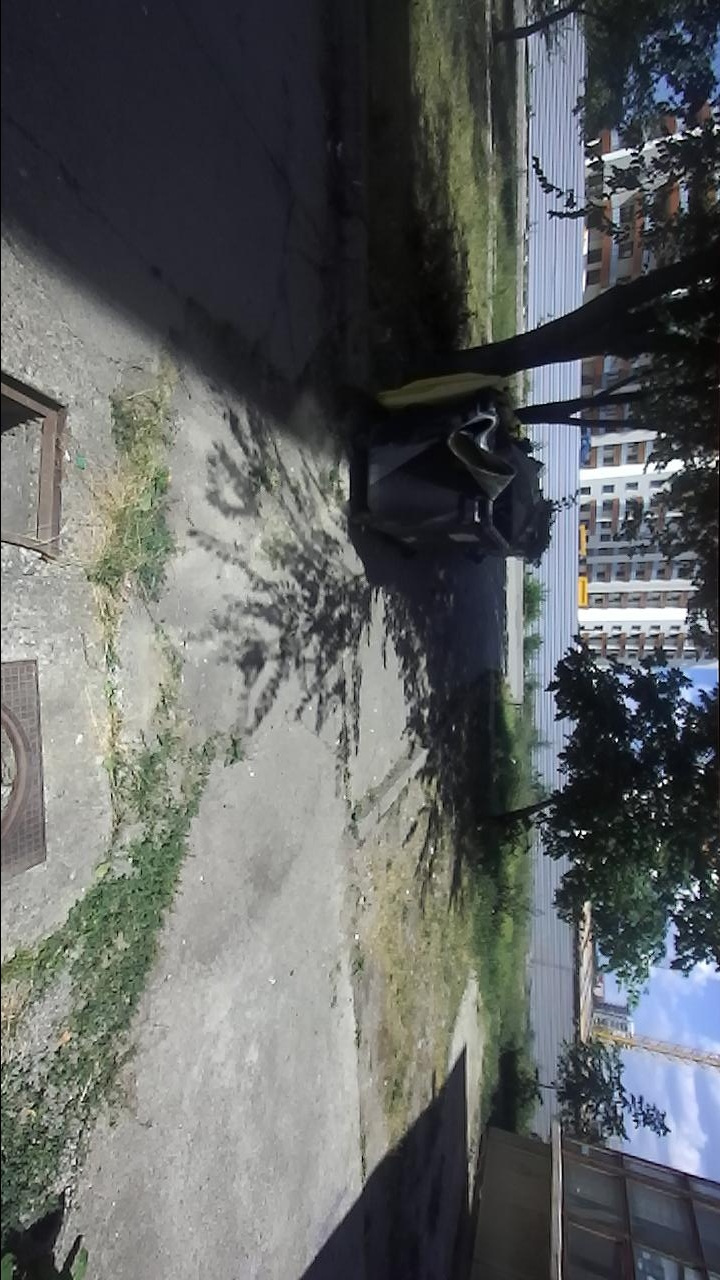drain: (1, 360, 70, 564), (1, 698, 34, 858)
